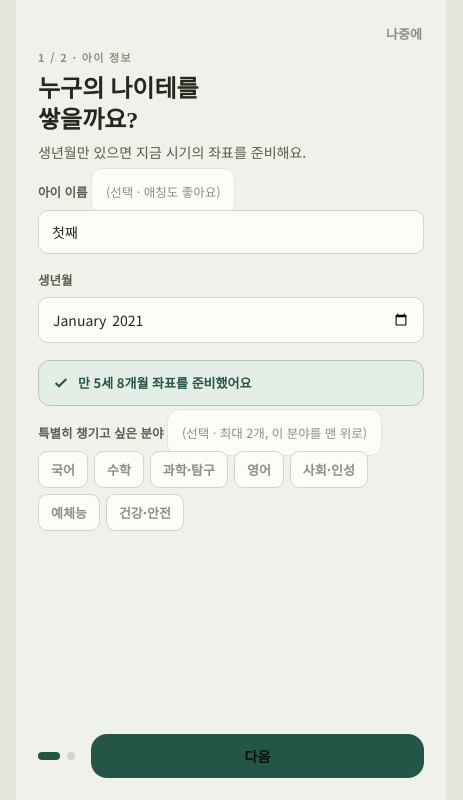
Scenario: ⭐ 첫 실행 셋업 (§06-A · 온보딩 직후) › 온보딩만 끝나면 셋업이 뜨고, 완료하면 오늘로 간다
Click the button "다음" at (258, 756), box 91,734 -> 424,778
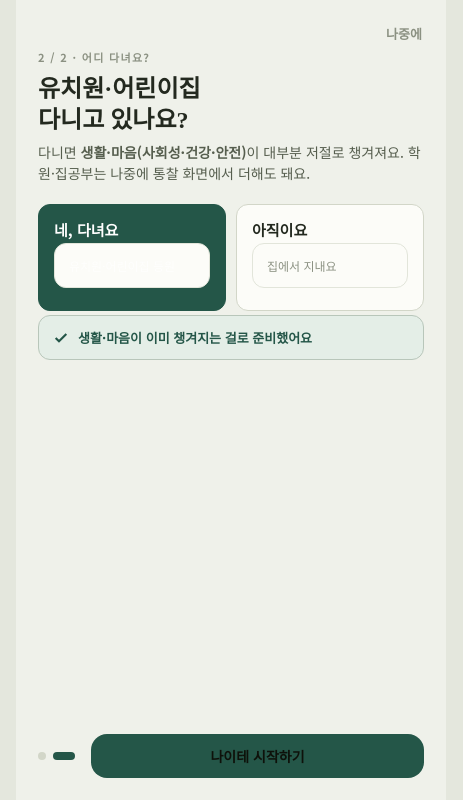
Click the button "나이테 시작하기" at (258, 756), box 91,734 -> 424,778
(page scrolled)
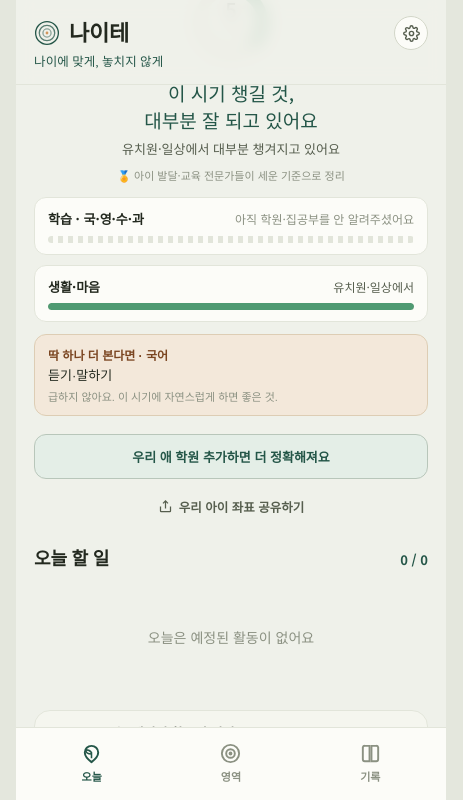
Expected: the element with test id "setup" is gone
